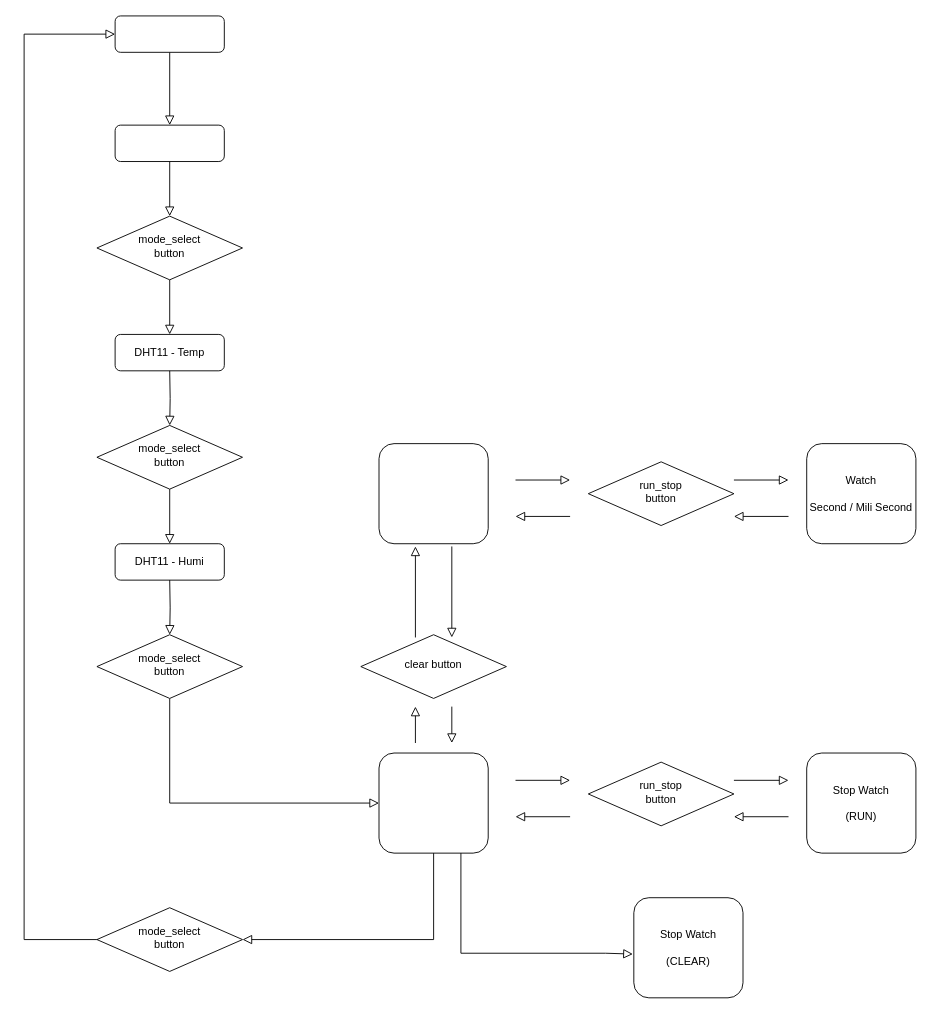
Image size: 932x1014. Some labels were removed from this diagram. Each missing label, with the box of its shape:
Power On: (114, 15, 224, 52)
Stop Watch (STOP): (378, 752, 488, 853)
Ultrasonic Sensor: (114, 124, 224, 162)
Watch Hour / Minute: (378, 443, 488, 544)
